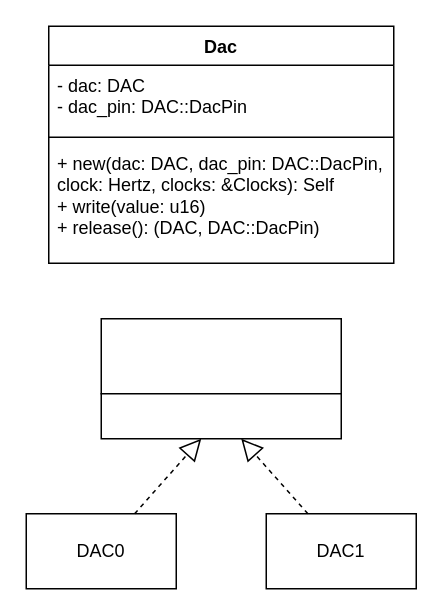
This 443x615 diagram has some shape labels left out. Each missing label, with the centre of its shape:
+ ptr(): *const RegisterBlock: [220,415]
«interface» Instance: [220,355]
